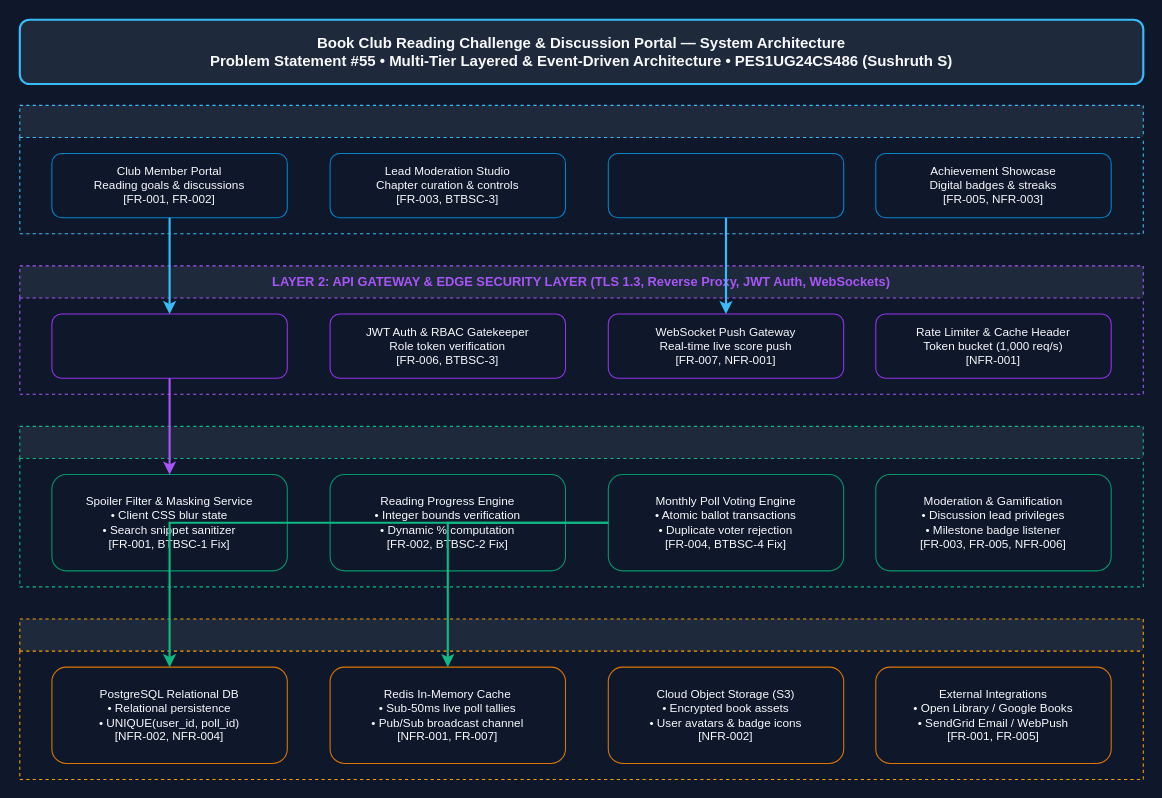
Image size: 1162x798. Some labels were removed from this diagram. Each missing label, with the box of its shape:
LAYER 1: CLIENT & PRESENTATION LAYER (React / Next.js / PWA): (19, 104, 1143, 234)
LAYER 3: CORE APPLICATION & DOMAIN MICROSERVICES: (19, 425, 1143, 587)
LAYER 4: PERSISTENCE, CACHING & EXTERNAL SERVICES: (19, 618, 1143, 779)
Live Poll & Tally Screen Tamper-proof voting UI [FR-004, BTBSC-4]: (607, 152, 844, 218)
TLS 1.3 Reverse Proxy Nginx Edge Routing / DDOS Guard [NFR-002]: (51, 313, 287, 378)
